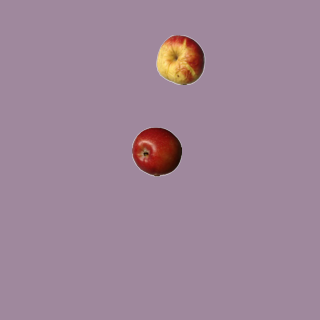Apple Braeburn: (131, 126, 181, 176)
Apple Red Yellow 1: (155, 34, 205, 84)
